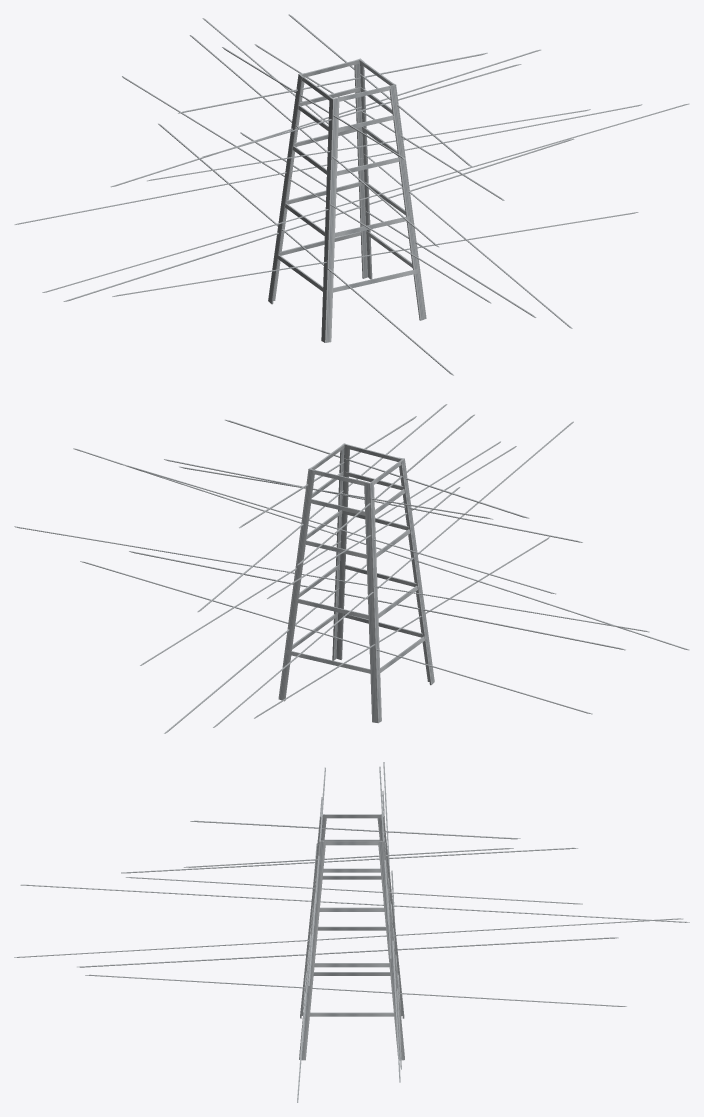
The model's file is Torre.FBX.
3 renders of one model, top to bottom at view 1: azimuth 30°, elevation 25°; view 2: azimuth 150°, elevation 25°; view 3: azimuth 270°, elevation 25°, orthographic. The views are drawn at different scales.
Parts seen in each view (by area): view 1: Box003, Box006, Box001, Box024, Box007, Box042, Box041, Box023, Box004, Box015, Box008, Box033 (+7 smaller); view 2: Box007, Box001, Box002, Box006, Box042, Box024, Box004, Box041, Box023, Box033, Box005, Box043 (+9 smaller); view 3: Box005, Box033, Box015, Box008, Box032, Box014, Box034, Box016, Box035, Box017, Box042.
Part boxes in pixels (bbox=[...]): Box003: bbox=[324, 98, 339, 342]; Box006: bbox=[389, 85, 424, 320]; Box001: bbox=[268, 73, 302, 304]; Box024: bbox=[42, 103, 689, 292]; Box007: bbox=[354, 58, 367, 278]; Box042: bbox=[14, 104, 642, 224]; Box041: bbox=[63, 138, 574, 301]; Box023: bbox=[112, 212, 638, 296]; Box004: bbox=[321, 97, 333, 342]; Box015: bbox=[202, 18, 572, 328]; Box008: bbox=[360, 59, 372, 279]; Box033: bbox=[122, 76, 491, 303]; Box007: bbox=[278, 468, 314, 701]; Box001: bbox=[369, 481, 381, 723]; Box002: bbox=[364, 482, 376, 722]; Box006: bbox=[336, 443, 349, 659]; Box042: bbox=[14, 526, 649, 632]; Box024: bbox=[73, 448, 689, 650]; Box004: bbox=[400, 459, 433, 685]; Box041: bbox=[80, 561, 592, 714]; Box023: bbox=[129, 551, 625, 650]; Box033: bbox=[213, 421, 573, 727]; Box005: bbox=[332, 443, 344, 660]; Box043: bbox=[124, 465, 556, 594]; Box005: bbox=[299, 841, 325, 1060]; Box033: bbox=[20, 884, 689, 922]; Box015: bbox=[14, 918, 683, 957]; Box008: bbox=[378, 841, 403, 1060]; Box032: bbox=[77, 937, 618, 967]; Box014: bbox=[85, 974, 626, 1006]; Box034: bbox=[121, 847, 578, 873]; Box016: bbox=[125, 877, 582, 904]; Box035: bbox=[190, 820, 520, 839]; Box017: bbox=[183, 848, 513, 867]; Box042: bbox=[383, 762, 400, 1082].
Bounding box in the file's own units: 588 × 202 × 588.
Materials: 1 (1 with a texture image).
